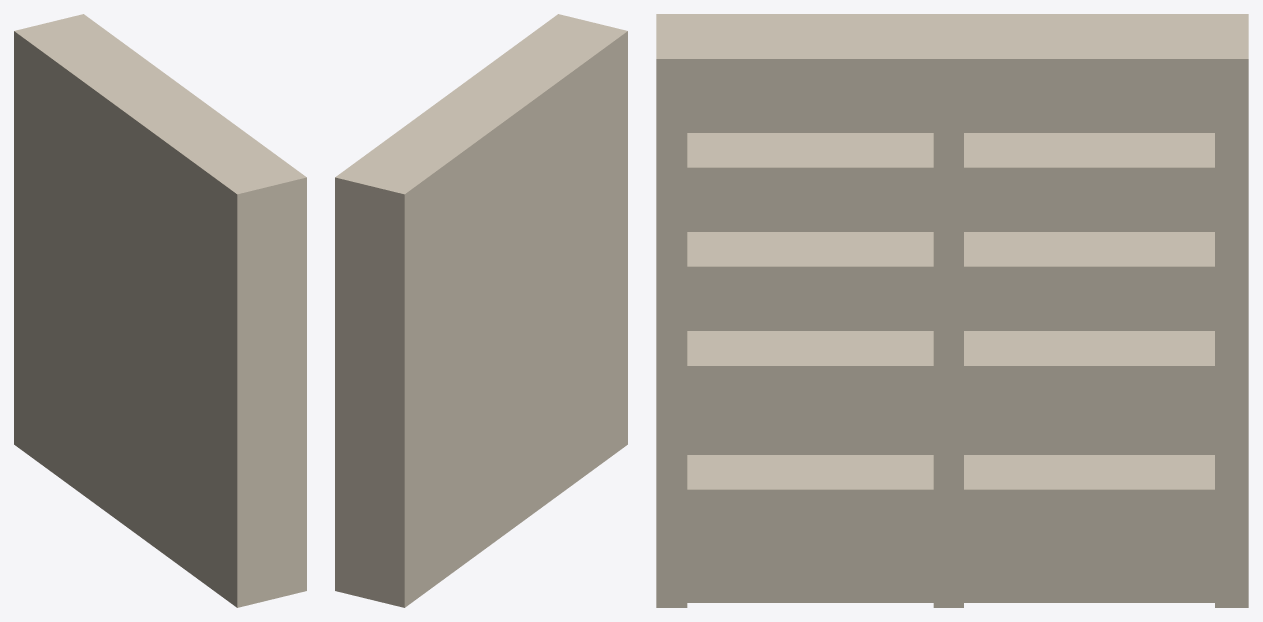
File: Bookshelf.fbx
The picture shows the model from 3 angles, left to right: view 1: azimuth 30°, elevation 25°; view 2: azimuth 150°, elevation 25°; view 3: azimuth 270°, elevation 25°; orthographic projection. The views are drawn at different scales.
Parts seen in each view (by area): view 1: Cube.001; view 2: Cube.001; view 3: Cube.001.
Part boxes in pixels (<box>): Cube.001: <box>14,14,306,607</box>; Cube.001: <box>335,14,627,607</box>; Cube.001: <box>656,14,1248,607</box>.
Size of the model in its own units: 348 by 62.66 by 355.
